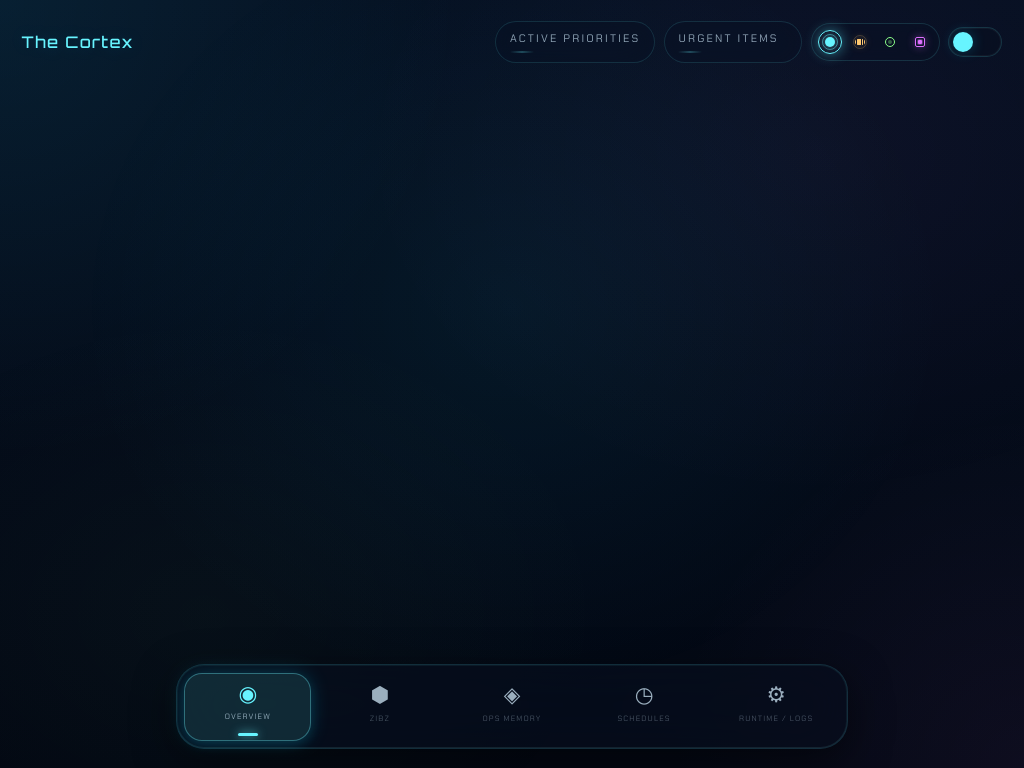
Test case: The Cortex app › mounts the animated canvas only on the overview route
The width and height of the screenshot is (1024, 768).
Click the link "◈ Ops Memory" at (512, 702), box [482, 681, 541, 723]
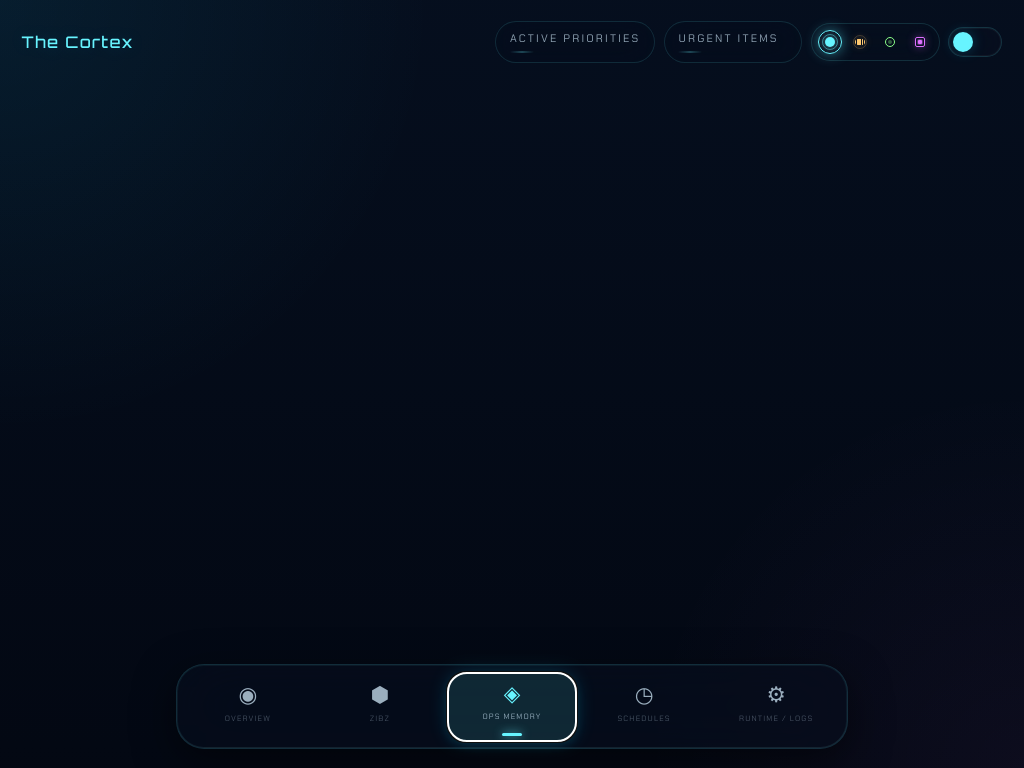
Result: the drawing with class "circuit-canvas" is gone
